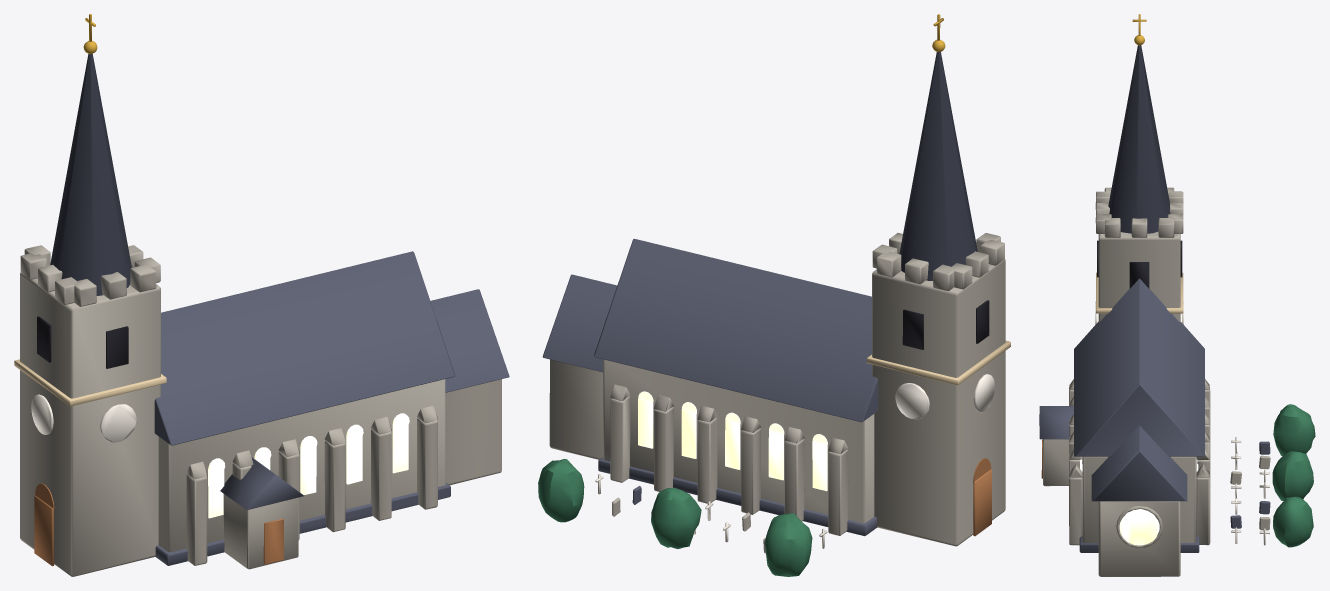
File: village_church.glb
3 renders of one model, left to right at view 1: azimuth 30°, elevation 25°; view 2: azimuth 150°, elevation 25°; view 3: azimuth 270°, elevation 25°, orthographic. The views are drawn at different scales.
Visible parts, largest first — view 1: village_church; view 2: village_church; view 3: village_church.
Part boxes in pixels (x1=…): village_church: x1=14, y1=14, x2=509, y2=576; village_church: x1=538, y1=14, x2=1010, y2=576; village_church: x1=1039, y1=14, x2=1315, y2=576.
Bounding box in the file's own units: 22.16 × 25.7 × 15.44.
1 material, 1 textured.
